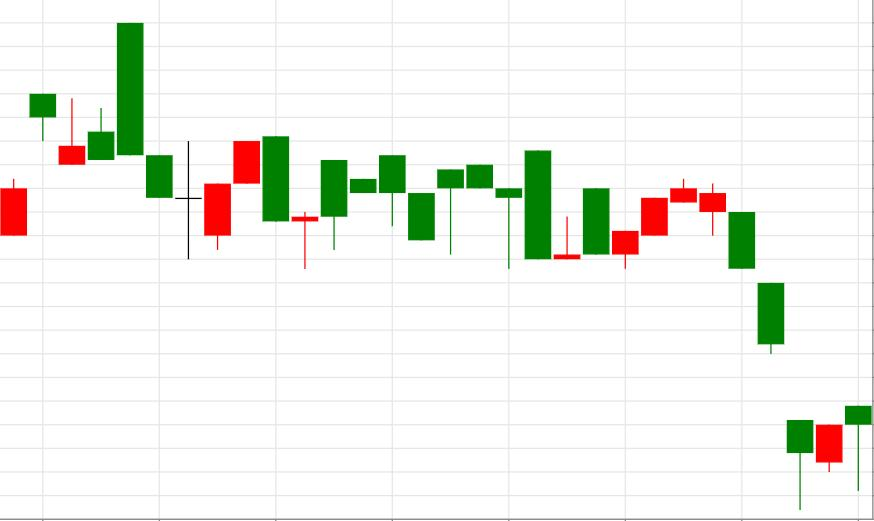hammer_rise: (671, 178, 814, 509)
